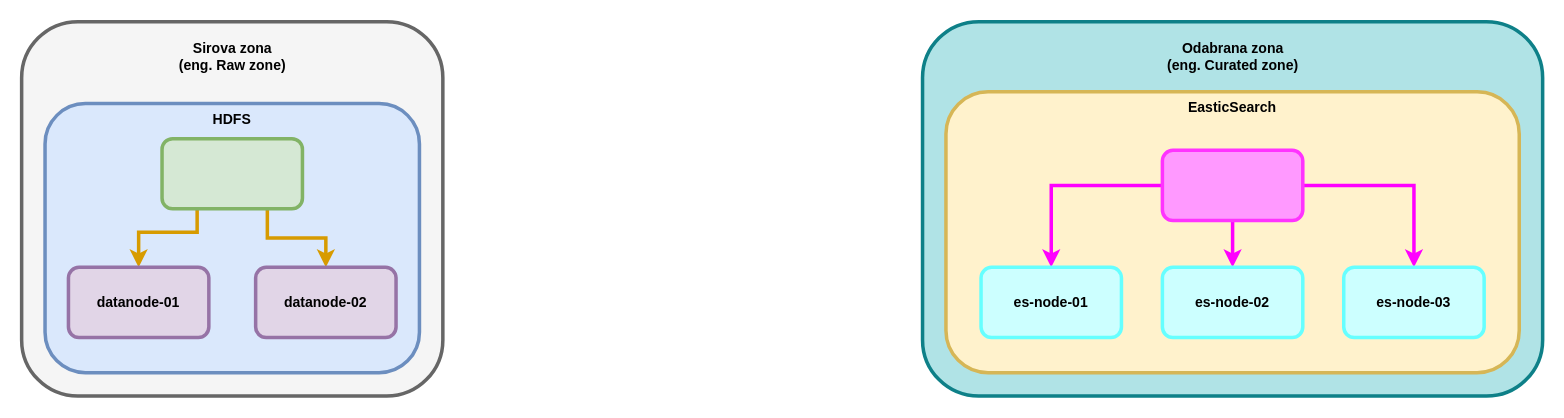
This 1564x418 diagram has some shape labels left out. The shapes that lost their labels are listed below. From the top down, each one's centre as x and y in pixels, then its label:
pixel 232 173: namenode
pixel 1232 185: es-setup
